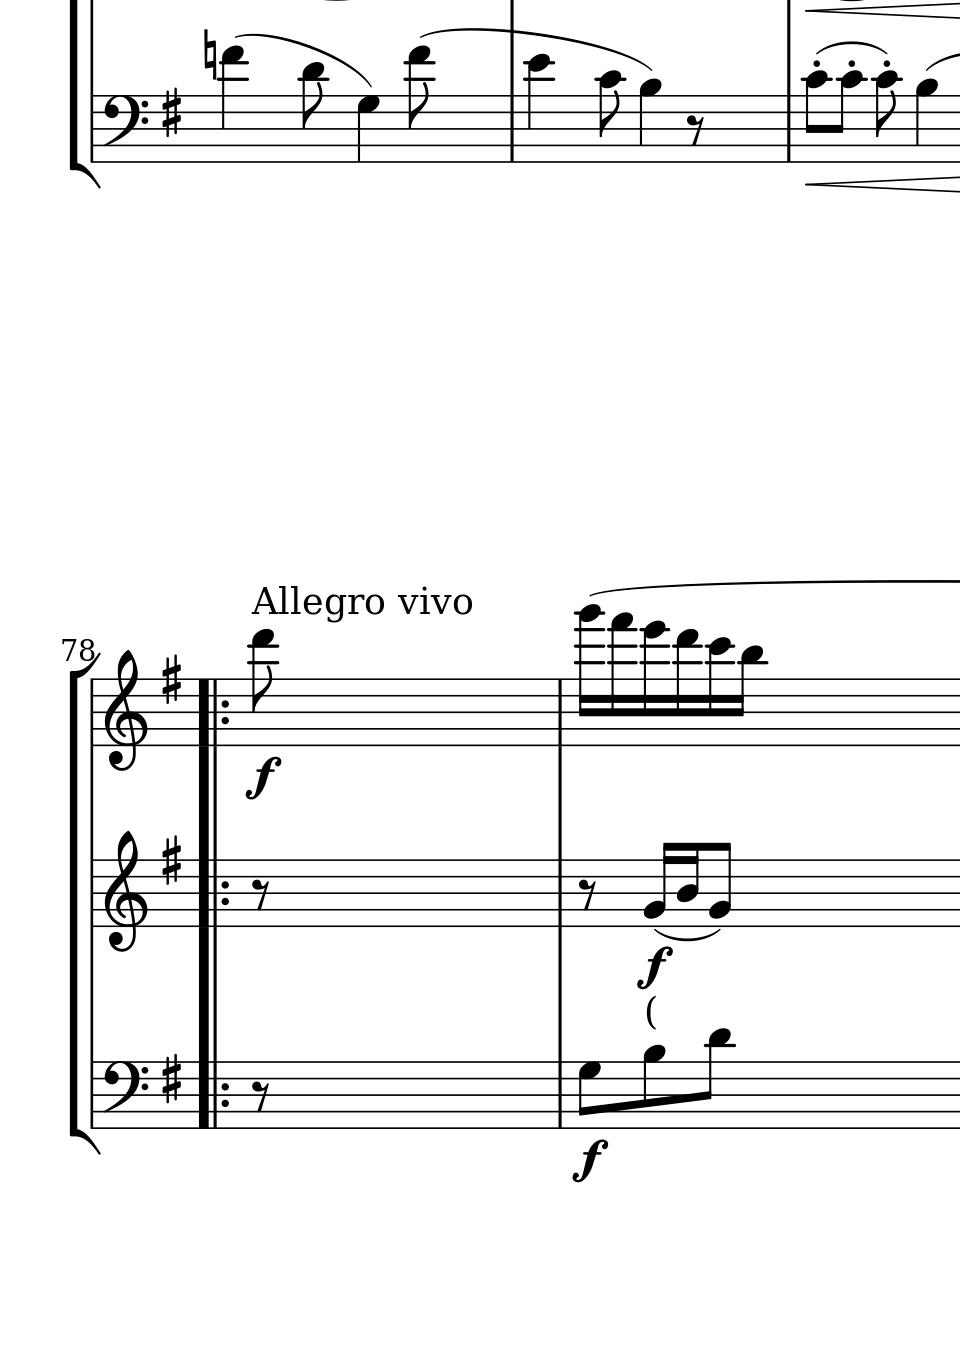16_11: (731, 644, 764, 749)
16_12: (706, 638, 732, 748)
16_13: (672, 628, 699, 746)
16_14: (639, 622, 666, 747)
16_15: (606, 612, 633, 747)
16_16: (574, 603, 603, 747)
16_2: (640, 840, 673, 930)
16_4: (675, 841, 700, 929)
4_12: (523, 53, 555, 165)
4_13: (218, 45, 247, 165)
4_7: (355, 94, 380, 163)
4_9: (913, 76, 938, 164), (636, 77, 661, 164)
7: (60, 635, 77, 663)
8: (77, 635, 98, 662)
8_10: (832, 69, 865, 164), (595, 69, 625, 165), (872, 69, 902, 164), (801, 69, 829, 164)
8_11: (698, 1026, 734, 1131), (298, 60, 327, 165)
8_13: (403, 45, 435, 165)
8_14: (247, 628, 278, 748)
8_2: (706, 840, 732, 929)
8_7: (576, 1060, 602, 1130)
8_9: (641, 1044, 666, 1130)
Bracke: (65, 653, 102, 1150)
Fclef: (100, 1059, 150, 1130), (100, 94, 149, 164)
Gclef: (101, 830, 150, 953), (102, 648, 149, 771)
LeftRepeatSign: (194, 857, 230, 928), (194, 678, 231, 747), (194, 1060, 230, 1129)
Natural: (201, 28, 217, 83)
Rests8: (575, 877, 599, 913), (249, 1077, 271, 1113), (684, 113, 705, 148), (249, 876, 270, 910)
Sharp: (159, 834, 184, 888), (159, 653, 183, 707), (160, 1051, 184, 1106), (160, 86, 183, 140)
Single_barline: (550, 859, 570, 926), (551, 1061, 569, 1128), (551, 680, 568, 746), (504, 94, 519, 162), (781, 95, 797, 162), (85, 96, 100, 162), (85, 680, 100, 746), (85, 1062, 100, 1128), (85, 860, 100, 926)
Slur: (421, 27, 654, 73), (236, 30, 374, 91), (814, 39, 887, 56), (654, 929, 723, 943)
f: (633, 944, 675, 991), (568, 1138, 609, 1183), (244, 756, 284, 800)
